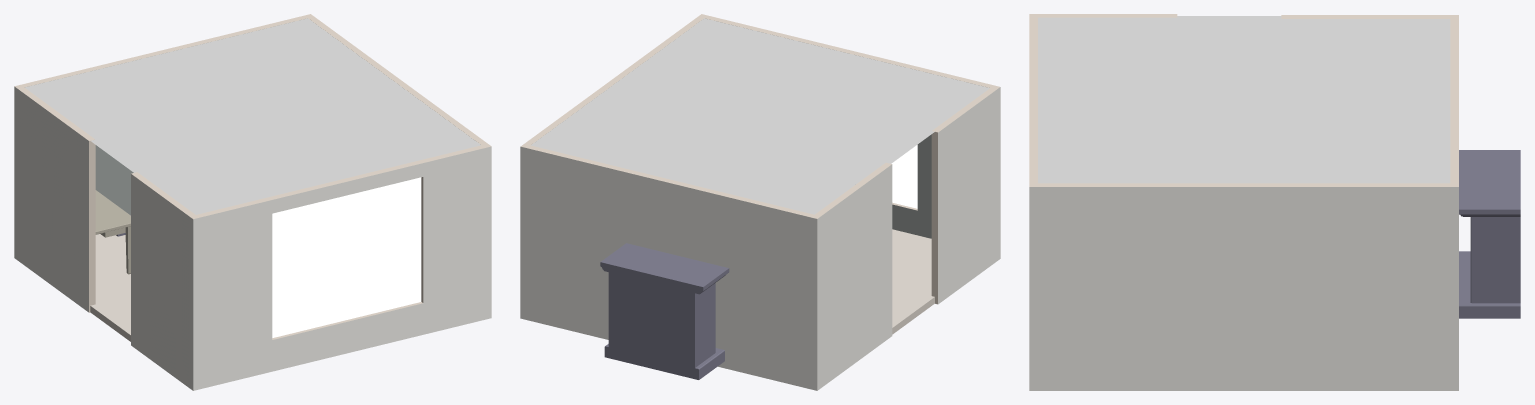
The model's file is 2026-11-06_scan3.glb.
3 views of the same model, side by side, from view 1: azimuth 30°, elevation 25°; view 2: azimuth 150°, elevation 25°; view 3: azimuth 270°, elevation 25° (orthographic). The views are drawn at different scales.
Visible parts, largest first — view 1: Ceiling_Room, Wall_3, Window_0, Wall_4, Wall_2, Floor_Room, Wall_0, table_other_rect_0, Wall_1; view 2: Ceiling_Room, Wall_0, Wall_4, fireplace_0, Wall_2, Floor_Room, Wall_3, Window_0, Wall_1; view 3: Wall_1, Ceiling_Room, fireplace_0, Wall_3, Wall_0, Wall_4, Wall_2.
Part boxes in pixels (bbox=[...]): Ceiling_Room: bbox=[25, 18, 480, 214]; Wall_3: bbox=[193, 145, 491, 390]; Window_0: bbox=[272, 177, 421, 337]; Wall_4: bbox=[14, 86, 95, 312]; Wall_2: bbox=[131, 172, 195, 390]; Floor_Room: bbox=[90, 234, 130, 341]; Wall_0: bbox=[15, 14, 310, 214]; table_other_rect_0: bbox=[95, 190, 130, 274]; Wall_1: bbox=[308, 14, 490, 146]; Ceiling_Room: bbox=[531, 18, 989, 214]; Wall_0: bbox=[520, 145, 817, 390]; Wall_4: bbox=[815, 162, 892, 390]; fireplace_0: bbox=[600, 243, 729, 379]; Wall_2: bbox=[931, 87, 1000, 304]; Floor_Room: bbox=[892, 229, 934, 334]; Wall_3: bbox=[702, 14, 999, 238]; Window_0: bbox=[891, 145, 917, 208]; Wall_1: bbox=[521, 14, 703, 146]; Wall_1: bbox=[1029, 183, 1458, 390]; Ceiling_Room: bbox=[1038, 16, 1450, 183]; fireplace_0: bbox=[1459, 150, 1520, 318]; Wall_3: bbox=[1029, 14, 1037, 186]; Wall_0: bbox=[1450, 15, 1458, 186]; Wall_4: bbox=[1281, 15, 1458, 18]; Wall_2: bbox=[1030, 14, 1177, 17].
Bounding box in the file's own units: 4.66 × 2.56 × 5.59.
Materials: 7 (1 with a texture image).
